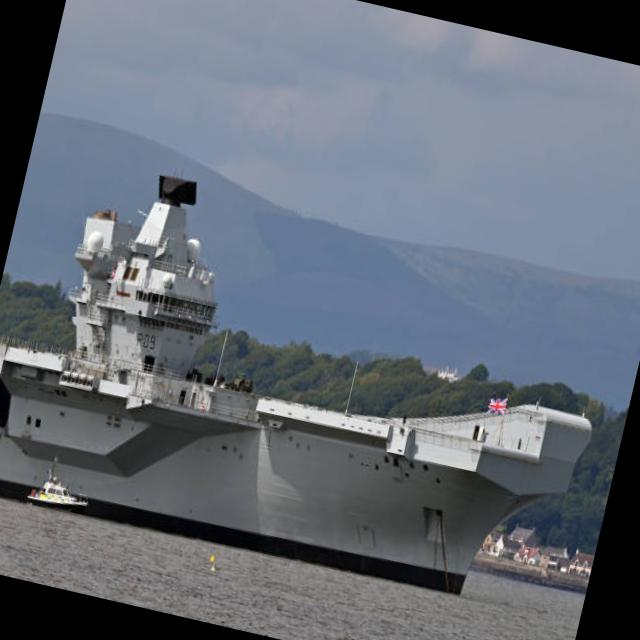Military: (0, 177, 592, 597)
